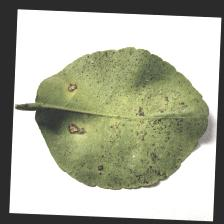canker: (58, 64, 173, 185)
